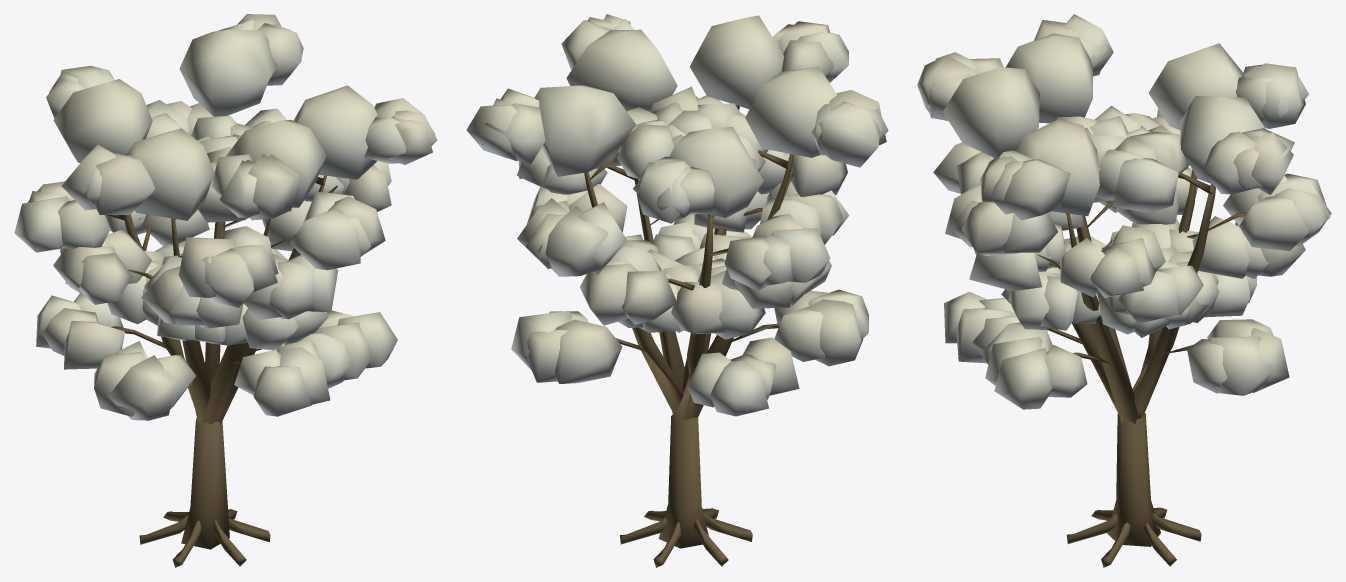
3 renders of one model, left to right at view 1: azimuth 30°, elevation 25°; view 2: azimuth 150°, elevation 25°; view 3: azimuth 270°, elevation 25°, orthographic. The views are drawn at different scales.
Visible parts, largest first — view 1: crown, trunk; view 2: crown, trunk; view 3: crown, trunk.
Part boxes in pixels (<box>): crown: <box>14,14,437,420</box>; trunk: <box>107,175,337,567</box>; crown: <box>466,14,888,416</box>; trunk: <box>584,105,793,567</box>; crown: <box>917,14,1331,409</box>; trunk: <box>1037,170,1247,567</box>.
Size of the model in its own units: 10.43 by 13.65 by 10.67.
